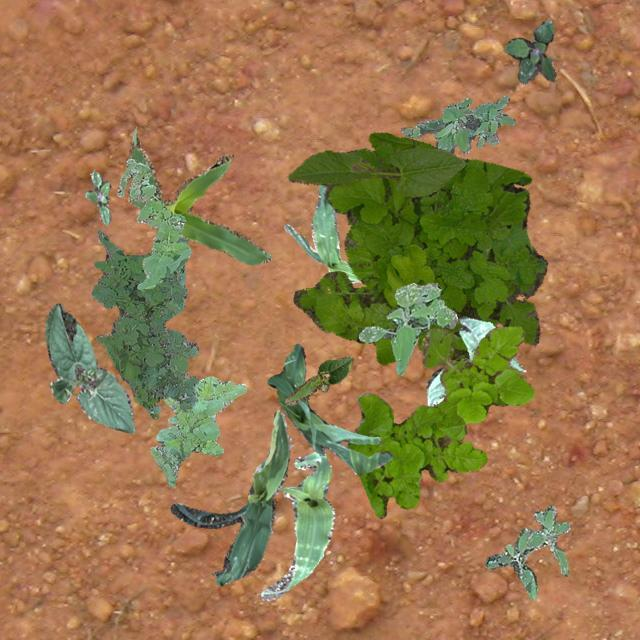crop: (170, 408, 292, 584), (127, 125, 270, 264), (266, 342, 392, 474), (44, 303, 134, 432), (260, 450, 334, 600), (426, 314, 524, 406), (286, 147, 464, 195), (282, 184, 360, 282), (284, 354, 352, 404)
weed: (292, 132, 546, 406), (346, 324, 532, 518), (90, 228, 198, 418), (150, 374, 246, 486), (116, 156, 190, 288), (358, 282, 457, 374), (484, 504, 568, 598), (399, 94, 514, 152), (504, 21, 556, 82), (84, 168, 110, 224)
